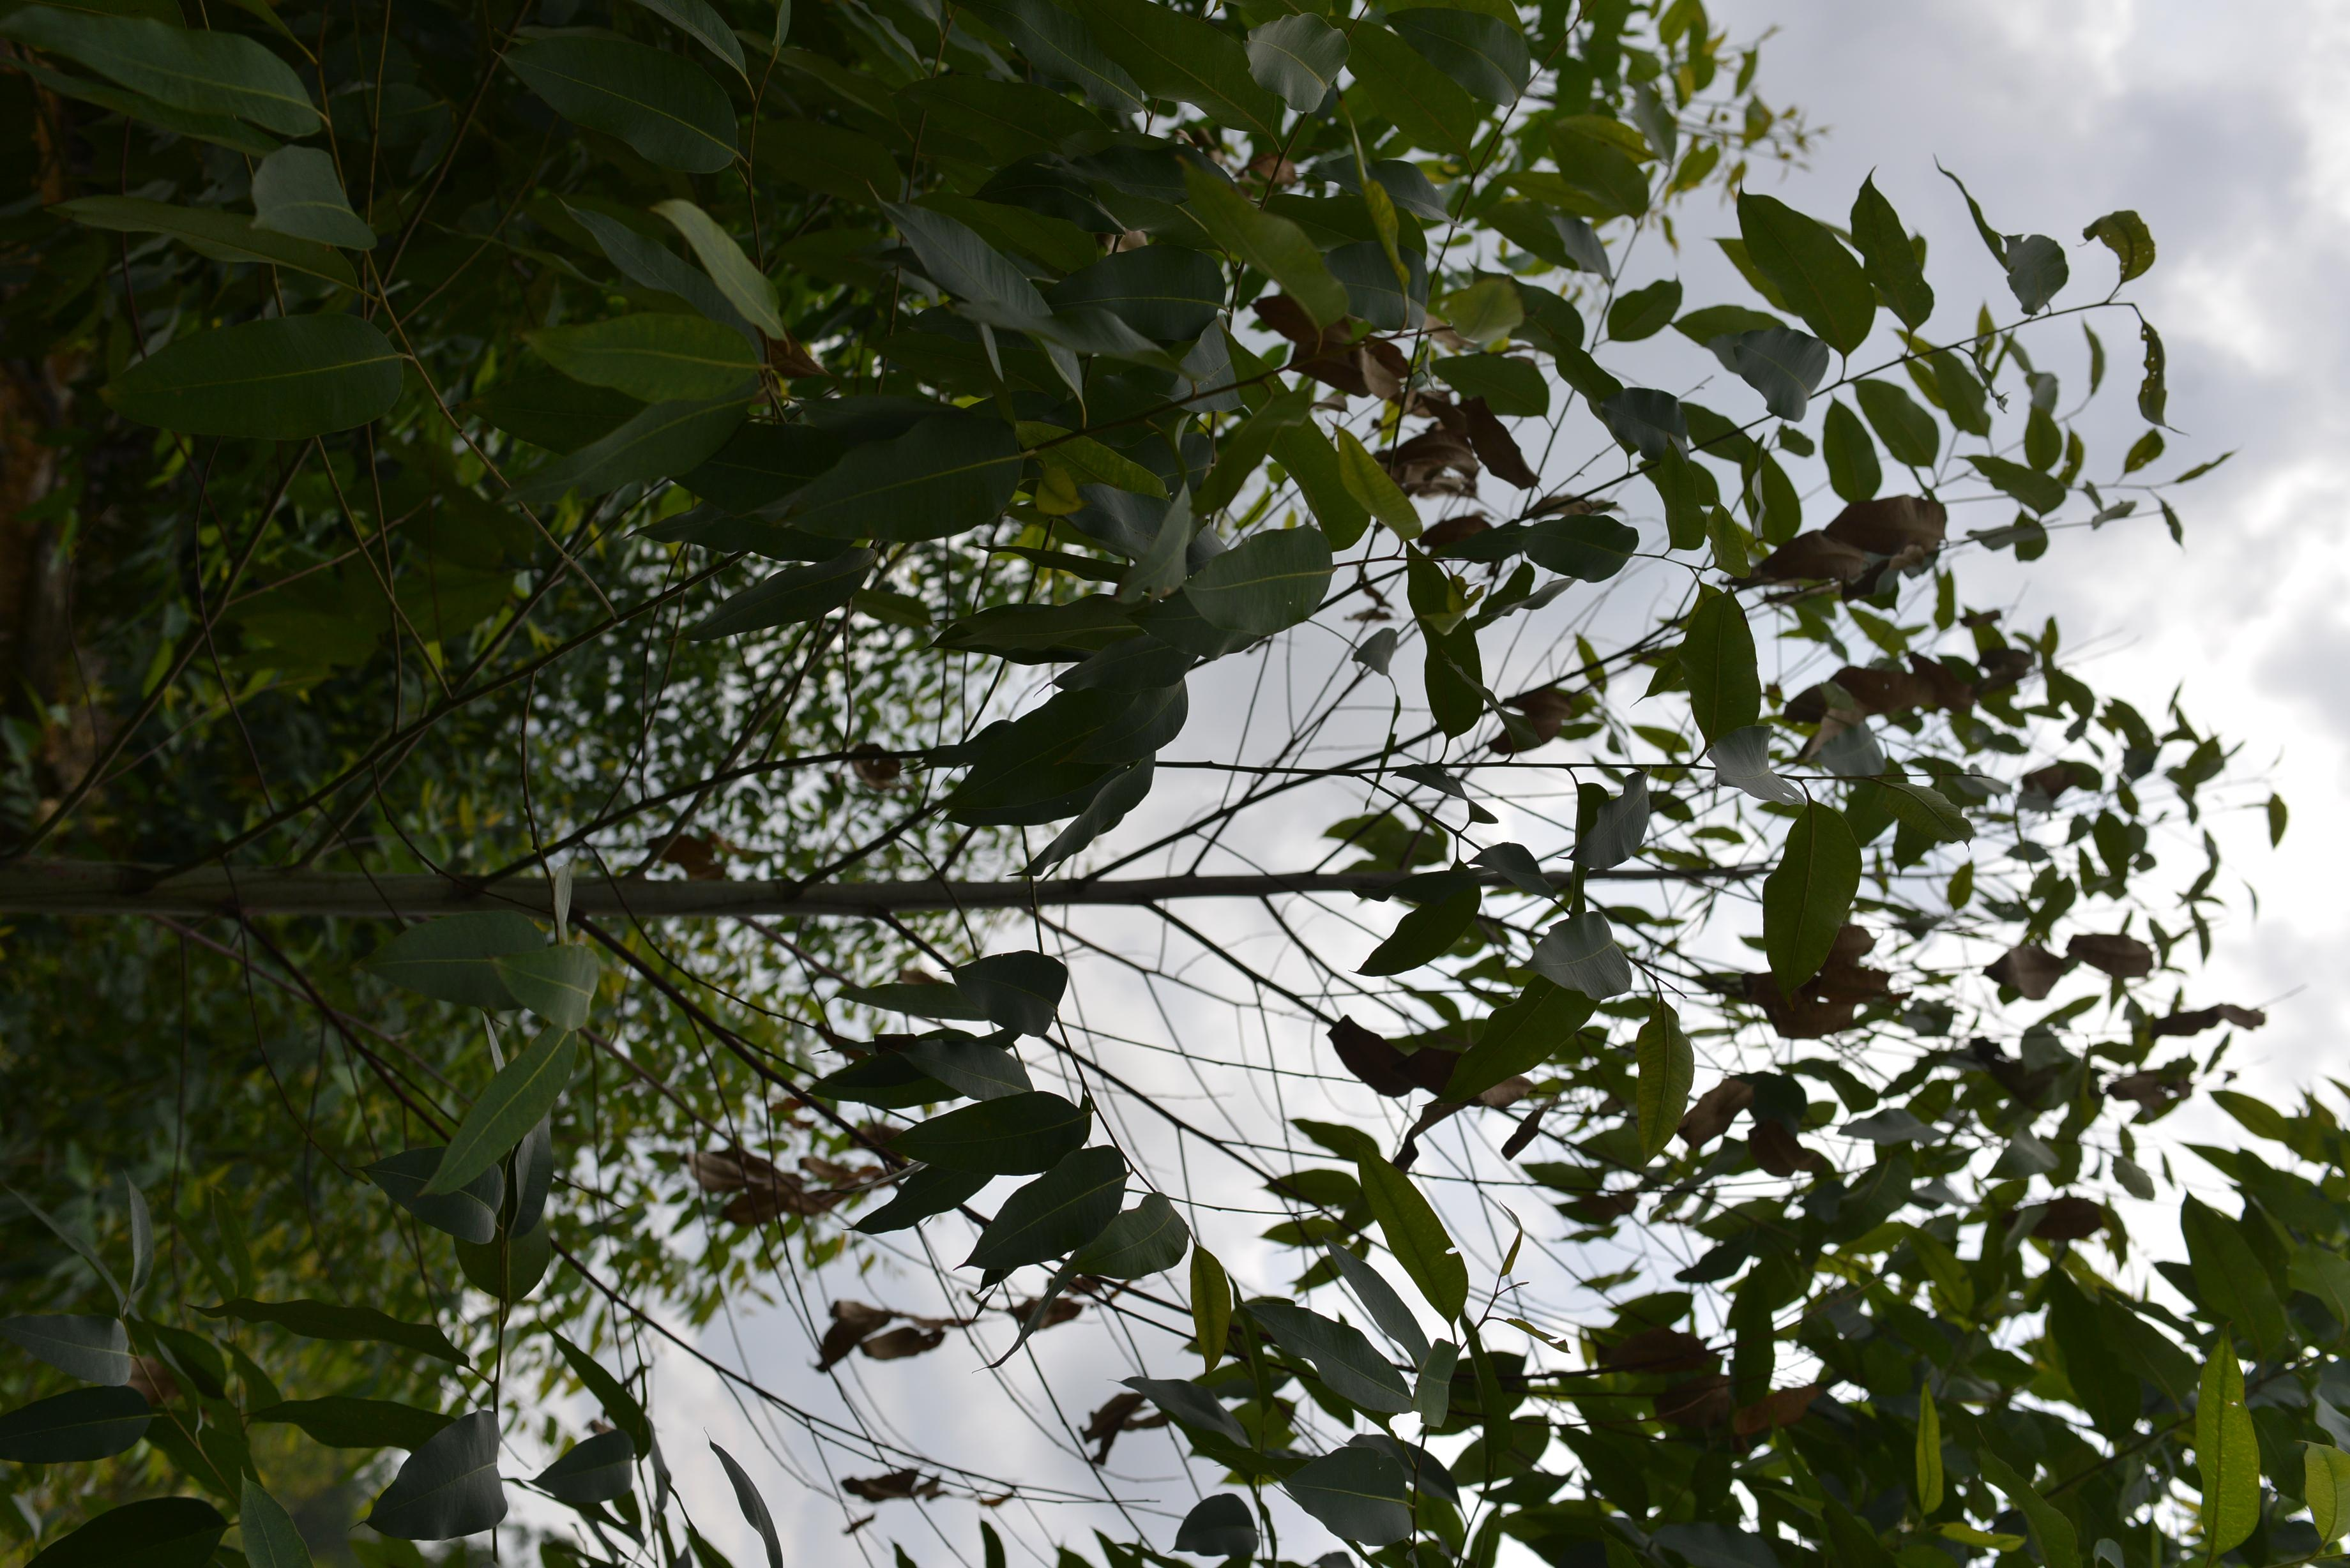Phalopeltis: (1706, 882, 1902, 1080), (1734, 457, 1979, 597), (2009, 885, 2229, 1034), (1358, 329, 1508, 507), (684, 1122, 885, 1253), (1234, 275, 1365, 422), (815, 1286, 982, 1386), (1834, 623, 1993, 723), (1675, 1085, 1808, 1169)
